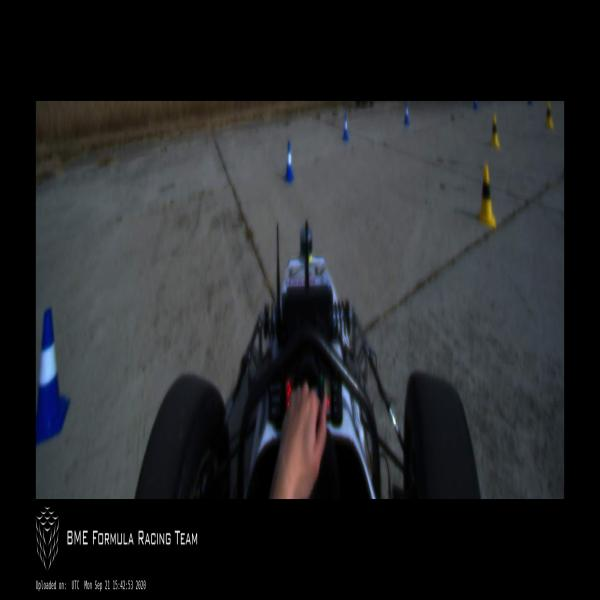blue_cone: (36, 305, 71, 446), (283, 140, 294, 184), (342, 110, 349, 143), (403, 101, 410, 126), (473, 101, 478, 110)
yellow_cone: (478, 162, 496, 227), (490, 112, 500, 148), (545, 101, 554, 130)
